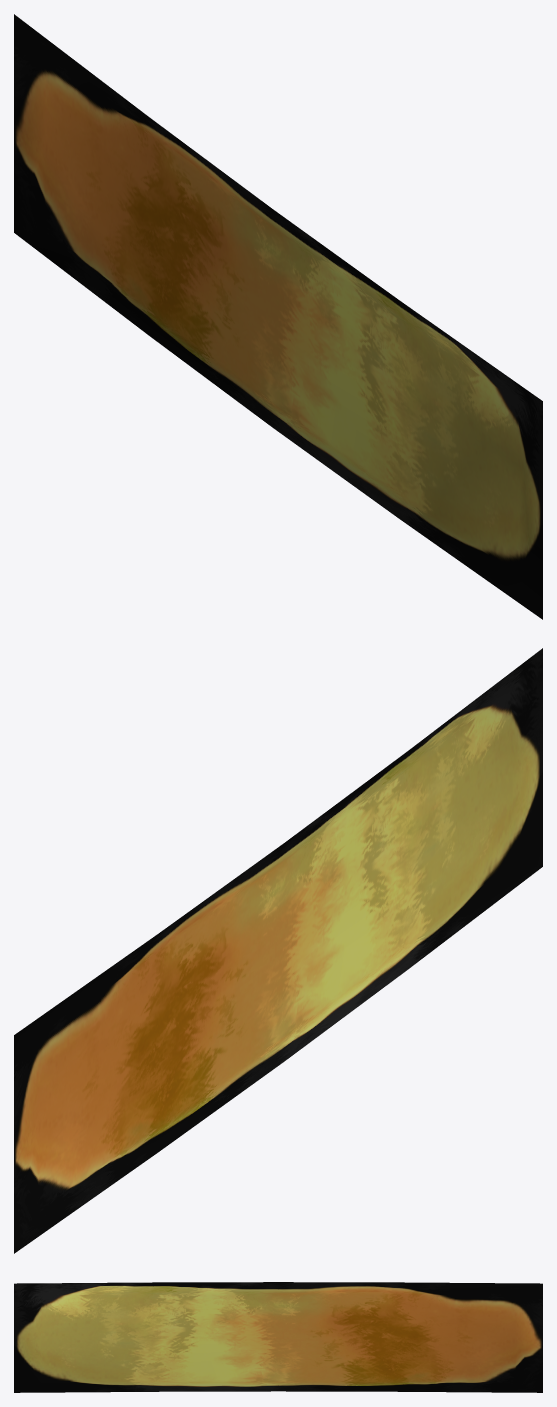
The model's file is Cloud01_Art.fbx.
3 renders of one model, top to bottom at view 1: azimuth 30°, elevation 25°; view 2: azimuth 150°, elevation 25°; view 3: azimuth 270°, elevation 25°, orthographic. The views are drawn at different scales.
Visible parts, largest first — view 1: Cloud01_Art; view 2: Cloud01_Art; view 3: Cloud01_Art.
Part boxes in pixels (x1,y1,x2,y2): Cloud01_Art: (14, 14, 542, 619); Cloud01_Art: (14, 648, 542, 1253); Cloud01_Art: (14, 1282, 542, 1392).
Bounding box in the file's own units: 0.0565 × 1.27 × 5.55.
